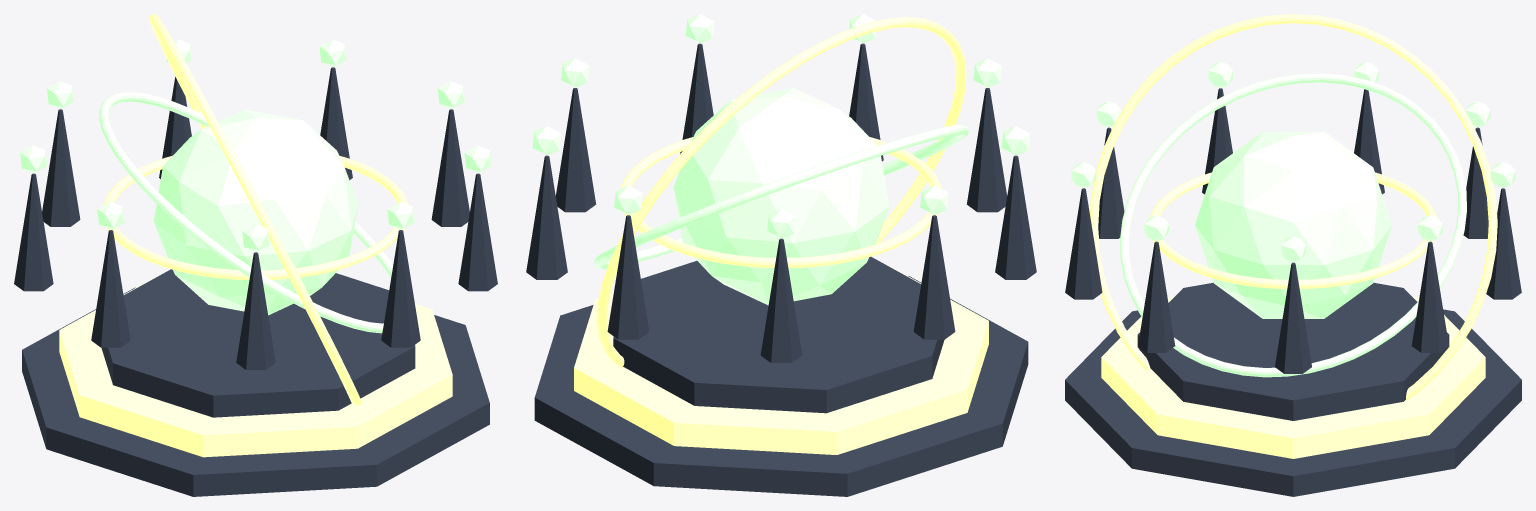
Rendered from gpu-blender-v30.glb.
The picture shows the model from 3 angles, left to right: view 1: azimuth 30°, elevation 25°; view 2: azimuth 150°, elevation 25°; view 3: azimuth 270°, elevation 25°; orthographic projection. The views are drawn at different scales.
Parts seen in each view (by area): view 1: Cylinder.002, SovereignCore_producthunt-connector, Cylinder, Cylinder.001, Torus.001, Torus.002, Torus, Cone.004, Cone.008, Cone.005, Cone.007, Cone.006 (+12 smaller); view 2: Cylinder.002, SovereignCore_producthunt-connector, Cylinder, Cylinder.001, Torus.002, Torus.001, Torus, Cone.002, Cone.004, Cone, Cone.001, Cone.005 (+12 smaller); view 3: SovereignCore_producthunt-connector, Cylinder.002, Cylinder, Cylinder.001, Torus.002, Torus.001, Torus, Cone.007, Cone.001, Cone.008, Cone, Cone.002 (+10 smaller).
Boxes of the visible parts, bbox=[...] form: Cylinder.002: bbox=[101, 269, 415, 417]; SovereignCore_producthunt-connector: bbox=[153, 109, 358, 315]; Cylinder: bbox=[22, 287, 489, 496]; Cylinder.001: bbox=[59, 277, 452, 457]; Torus.001: bbox=[99, 92, 393, 333]; Torus.002: bbox=[149, 14, 361, 405]; Torus: bbox=[103, 155, 408, 279]; Cone.004: bbox=[14, 173, 53, 291]; Cone.008: bbox=[458, 173, 497, 291]; Cone.005: bbox=[91, 230, 130, 347]; Cone.007: bbox=[381, 230, 420, 347]; Cone.006: bbox=[236, 252, 275, 369]; Cylinder.002: bbox=[613, 256, 944, 413]; SovereignCore_producthunt-connector: bbox=[673, 88, 889, 305]; Cylinder: bbox=[534, 276, 1028, 496]; Cylinder.001: bbox=[574, 265, 988, 454]; Torus.002: bbox=[596, 17, 966, 367]; Torus.001: bbox=[594, 124, 968, 269]; Torus: bbox=[621, 137, 942, 268]; Cone.002: bbox=[607, 215, 649, 339]; Cone.004: bbox=[913, 215, 955, 339]; Cone: bbox=[555, 88, 596, 212]; Cone.001: bbox=[526, 155, 567, 279]; Cone.005: bbox=[995, 155, 1036, 279]; SovereignCore_producthunt-connector: bbox=[1195, 131, 1391, 318]; Cylinder.002: bbox=[1137, 282, 1449, 420]; Cylinder: bbox=[1065, 309, 1521, 496]; Cylinder.001: bbox=[1101, 296, 1485, 458]; Torus.002: bbox=[1090, 14, 1497, 400]; Torus.001: bbox=[1120, 73, 1466, 377]; Torus: bbox=[1150, 172, 1436, 288]; Cone.007: bbox=[1065, 188, 1102, 299]; Cone.001: bbox=[1411, 241, 1448, 352]; Cone.008: bbox=[1138, 241, 1175, 352]; Cone: bbox=[1275, 262, 1311, 373]; Cone.002: bbox=[1486, 188, 1521, 299].
Size of the model in its own units: 4.41 by 3.72 by 4.4.
